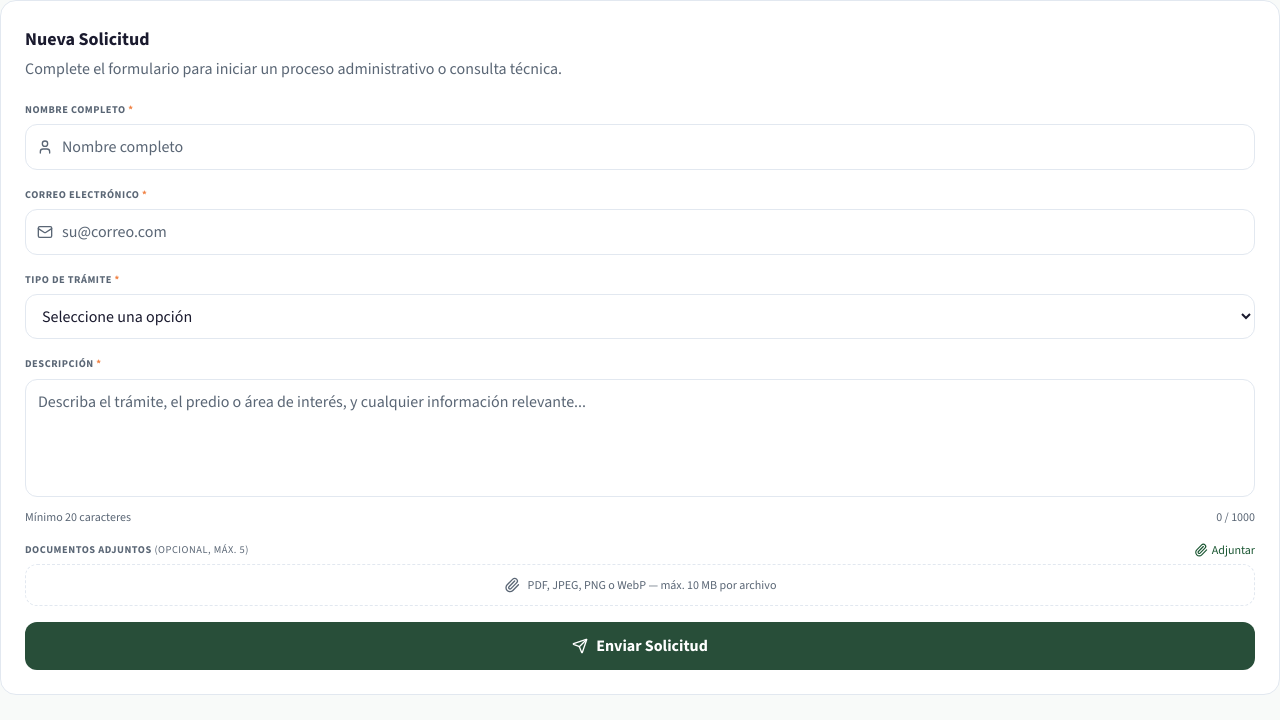
Test: NuevaSolicitudForm — modal de éxito › "Entendido" cierra el modal de confirmación
Type "Ana Restrepo" into the field labelled "Nombre Completo *" at (640, 147), box x1=25 y1=124 x2=1255 y2=170
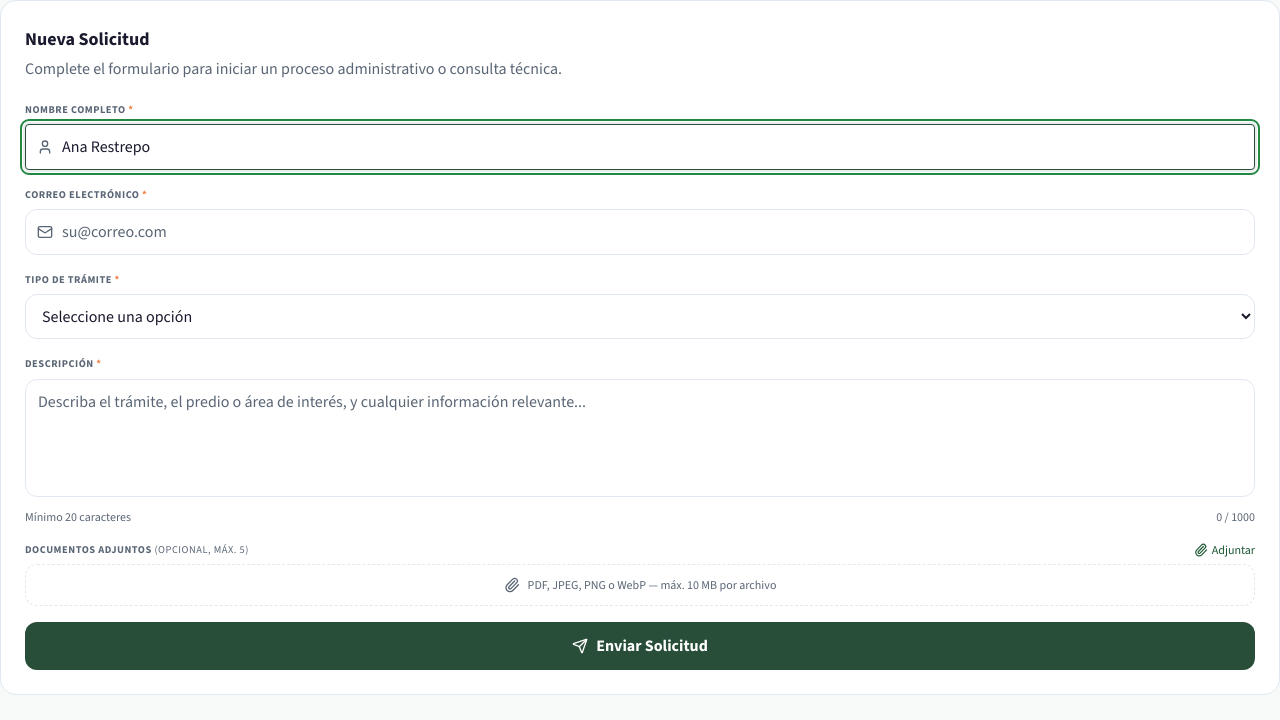
Type "ana@iiap.gov.co" into the field labelled "Correo Electrónico *" at (640, 232), box x1=25 y1=209 x2=1255 y2=255
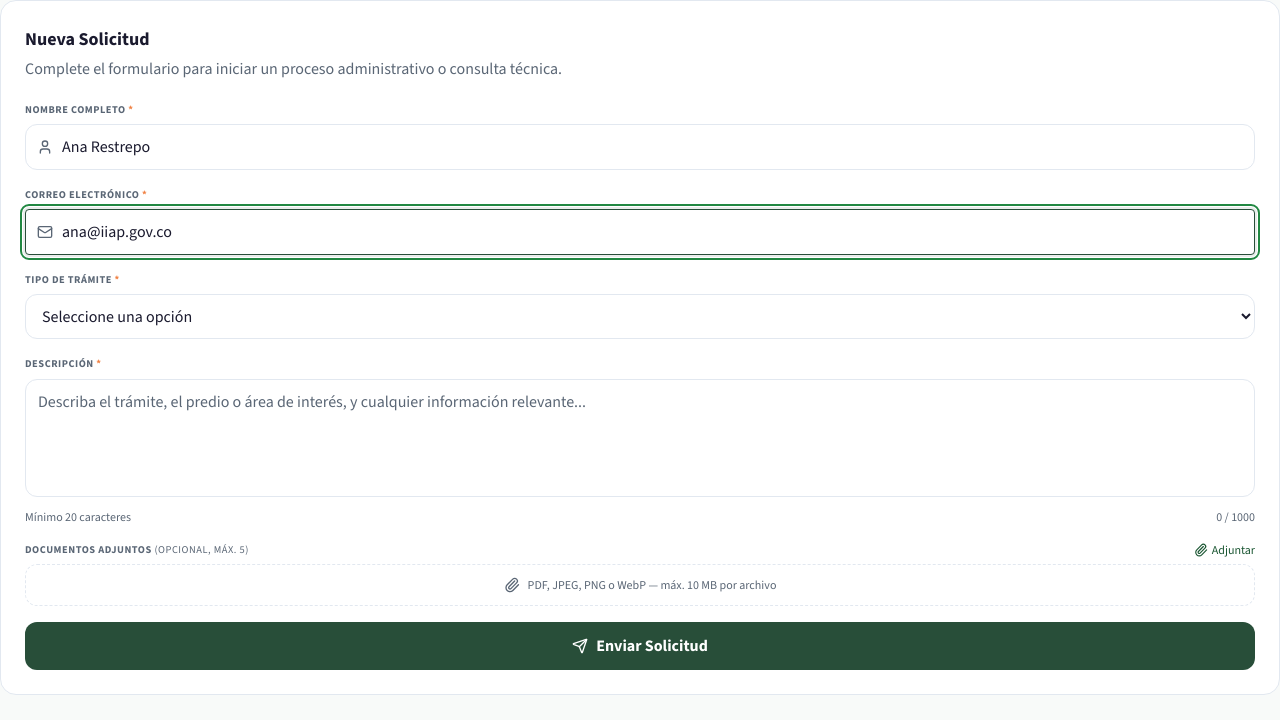
Select "Certificado de Uso de Suelo" in the dropdown labelled "Tipo de Trámite *" at (640, 317), box x1=25 y1=294 x2=1255 y2=340
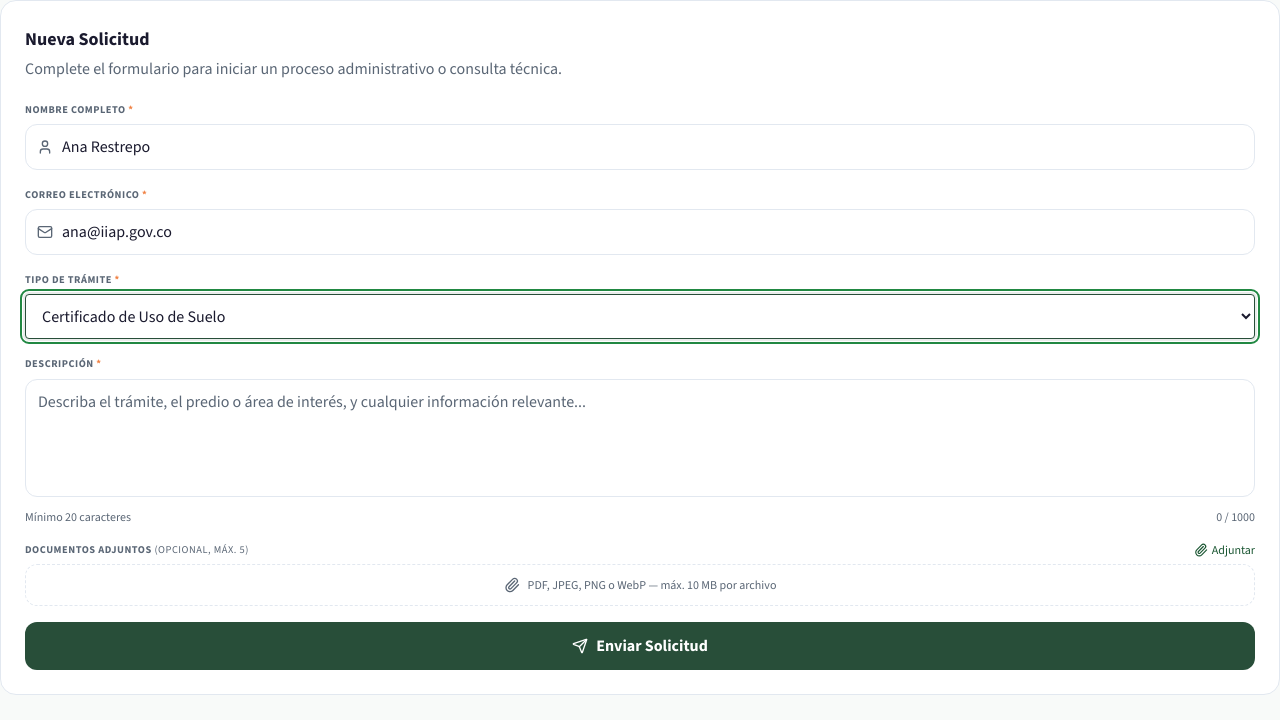
Type "Solicito certificado de uso de suelo para el predio ubicado en la vereda X." into the text box labelled "Descripción *" at (640, 438), box x1=25 y1=379 x2=1255 y2=497
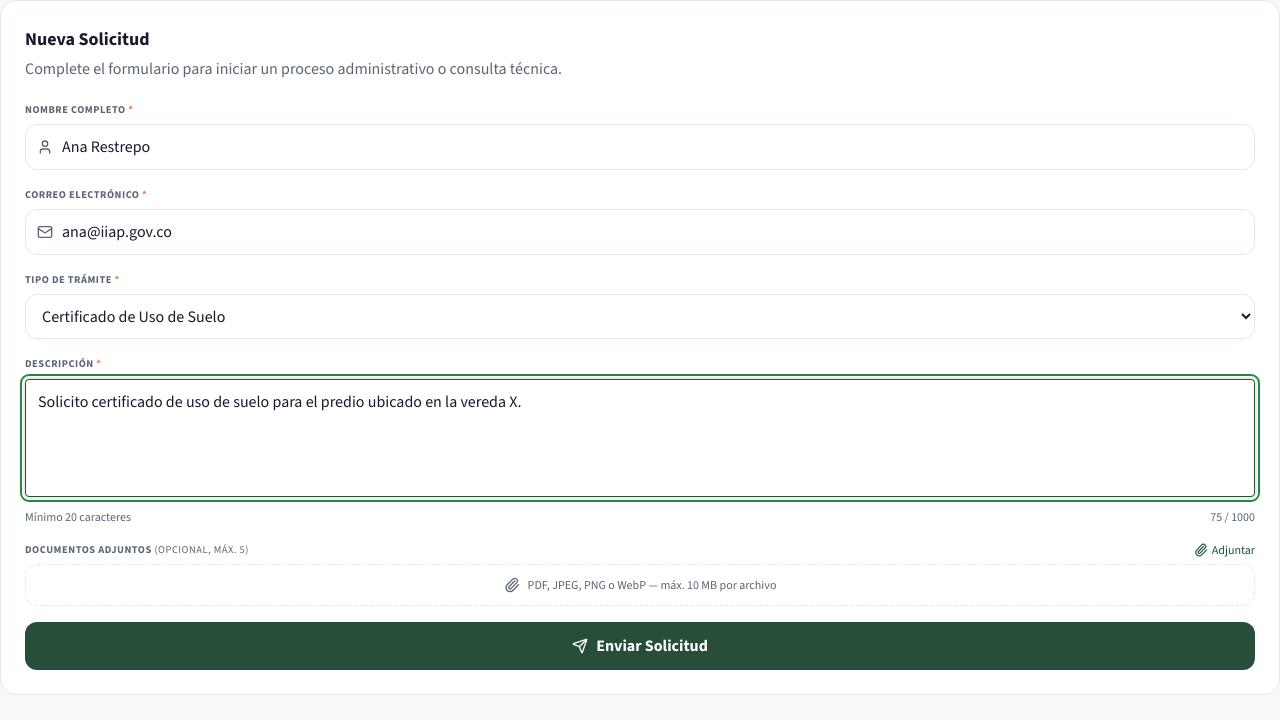
Click the button "Enviar Solicitud" at (640, 646), box x1=25 y1=622 x2=1255 y2=670
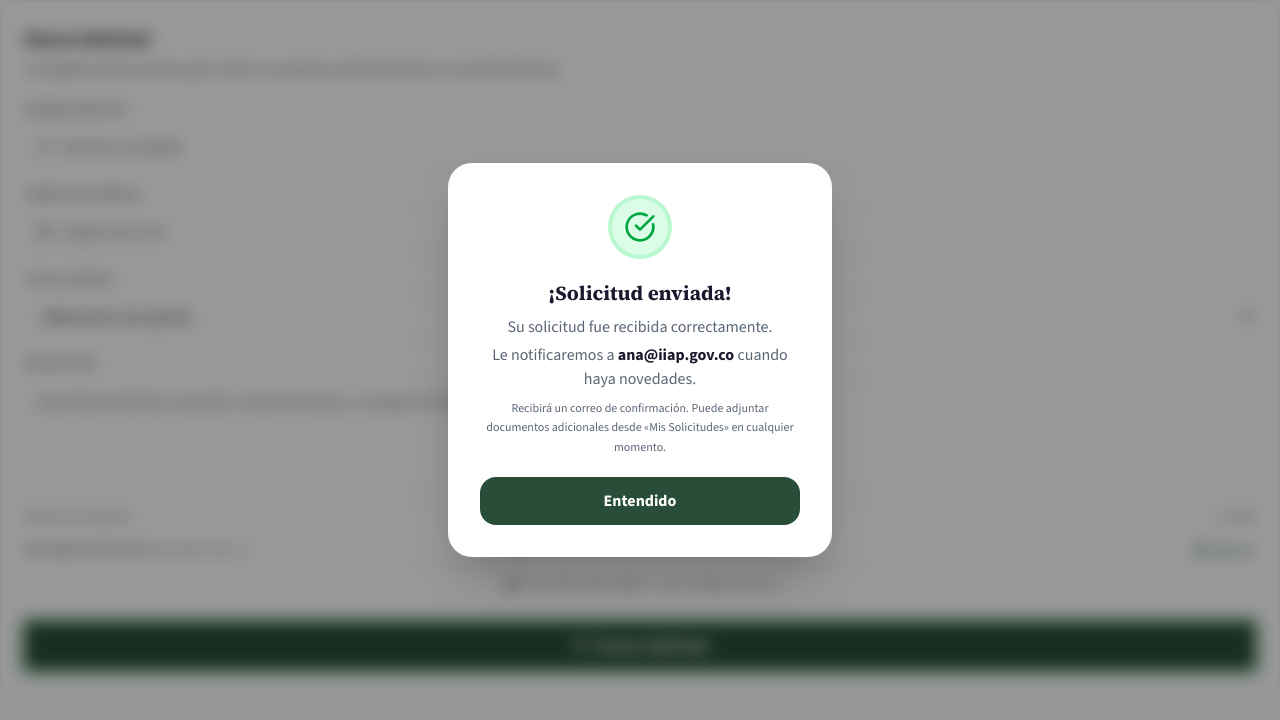
Expected: the heading "¡Solicitud enviada!" is shown, x1=548 y1=279 x2=732 y2=307
Click the button "Entendido" at (640, 501), box x1=480 y1=477 x2=800 y2=525
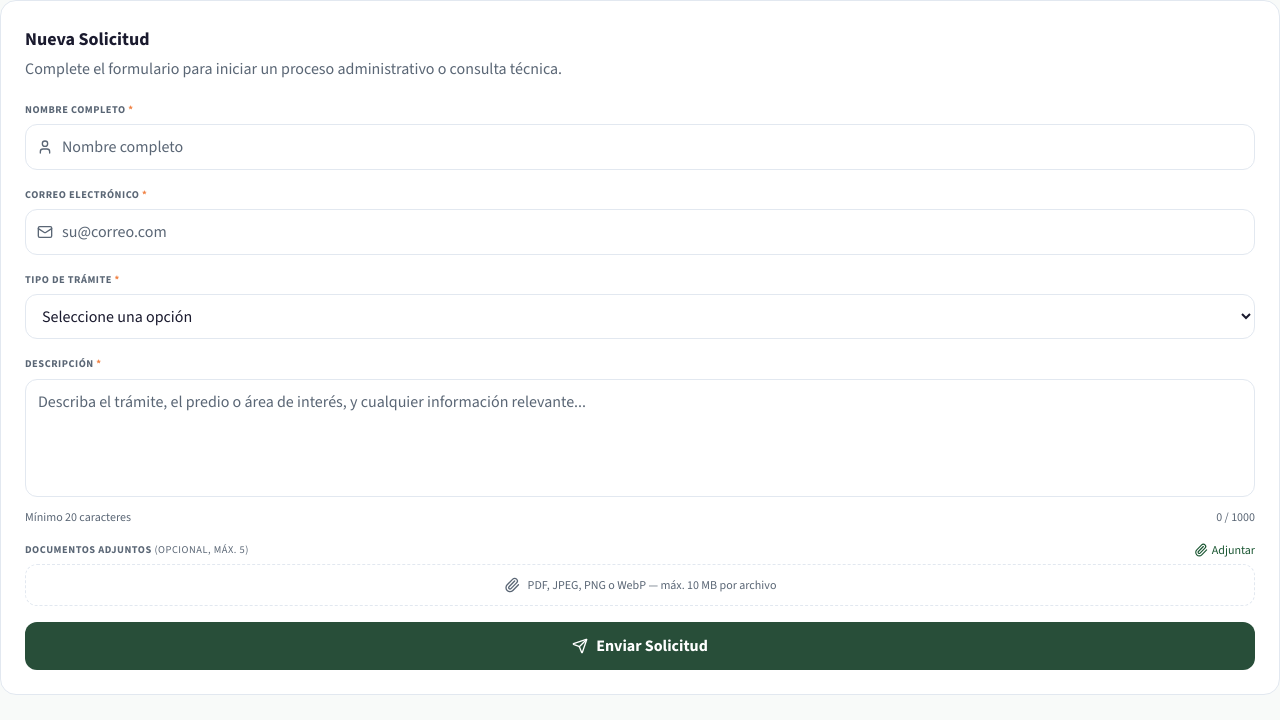
Expected: the heading "¡Solicitud enviada!" is gone
